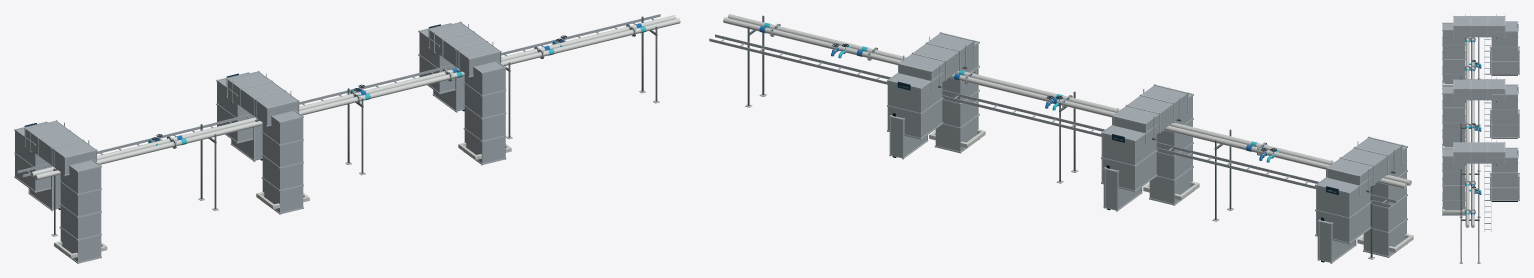
File: fab1-hvac-south.glb
3 renders of one model, left to right at view 1: azimuth 30°, elevation 25°; view 2: azimuth 150°, elevation 25°; view 3: azimuth 270°, elevation 25°, orthographic. The views are drawn at different scales.
Visible parts, largest first — view 1: FAB1_HVAC_south_Downfeed_2, FAB1_HVAC_south_Downfeed_0, FAB1_HVAC_south_Downfeed_1, FAB1_HVAC_south_CHWR, FAB1_HVAC_south_Overhead_1, FAB1_HVAC_south_Overhead_0, FAB1_HVAC_south_CHWS, FAB1_HVAC_south_Overhead_2, FAB1_HVAC_south_CableRail_8.0, FAB1_HVAC_south_Riser_0, FAB1_HVAC_south_Riser_2, FAB1_HVAC_south_Riser_1 (+3 smaller); view 2: FAB1_HVAC_south_CHWS, FAB1_HVAC_south_Riser_2, FAB1_HVAC_south_Riser_0, FAB1_HVAC_south_Riser_1, FAB1_HVAC_south_Downfeed_1, FAB1_HVAC_south_Downfeed_2, FAB1_HVAC_south_Downfeed_0, FAB1_HVAC_south_Overhead_1, FAB1_HVAC_south_Overhead_0, FAB1_HVAC_south_Overhead_2, FAB1_HVAC_south_CHWR, FAB1_HVAC_south_CableRail_8.0 (+4 smaller); view 3: FAB1_HVAC_south_Downfeed_2, FAB1_HVAC_south_Downfeed_0, FAB1_HVAC_south_Downfeed_1, FAB1_HVAC_south_Overhead_0, FAB1_HVAC_south_Overhead_2, FAB1_HVAC_south_Overhead_1, FAB1_HVAC_south_Riser_0, FAB1_HVAC_south_Riser_2, FAB1_HVAC_south_Riser_1, FAB1_HVAC_south_CHWR, FAB1_HVAC_south_CHWS, FAB1_HVAC_south_Outlet_1 (+10 smaller).
Part boxes in pixels (x1,y1,x2,y2): FAB1_HVAC_south_Downfeed_2: [463, 60, 506, 165]; FAB1_HVAC_south_Downfeed_0: [59, 159, 101, 263]; FAB1_HVAC_south_Downfeed_1: [261, 110, 303, 214]; FAB1_HVAC_south_CHWR: [34, 18, 680, 180]; FAB1_HVAC_south_Overhead_1: [226, 70, 299, 126]; FAB1_HVAC_south_Overhead_0: [24, 120, 97, 176]; FAB1_HVAC_south_CHWS: [30, 15, 676, 177]; FAB1_HVAC_south_Overhead_2: [428, 21, 501, 77]; FAB1_HVAC_south_CableRail_8.0: [17, 14, 660, 173]; FAB1_HVAC_south_Riser_0: [14, 121, 52, 192]; FAB1_HVAC_south_Riser_2: [418, 23, 455, 94]; FAB1_HVAC_south_Riser_1: [216, 72, 254, 143]; FAB1_HVAC_south_CHWS: [723, 17, 1407, 189]; FAB1_HVAC_south_Riser_2: [887, 72, 943, 139]; FAB1_HVAC_south_Riser_0: [1315, 177, 1371, 244]; FAB1_HVAC_south_Riser_1: [1101, 125, 1157, 191]; FAB1_HVAC_south_Downfeed_1: [1149, 87, 1193, 205]; FAB1_HVAC_south_Downfeed_2: [934, 40, 979, 153]; FAB1_HVAC_south_Downfeed_0: [1363, 140, 1407, 257]; FAB1_HVAC_south_Overhead_1: [1111, 84, 1189, 143]; FAB1_HVAC_south_Overhead_0: [1325, 136, 1403, 195]; FAB1_HVAC_south_Overhead_2: [897, 32, 974, 91]; FAB1_HVAC_south_CHWR: [727, 14, 1411, 185]; FAB1_HVAC_south_CableRail_8.0: [709, 38, 1390, 207]; FAB1_HVAC_south_Downfeed_2: [1442, 149, 1465, 215]; FAB1_HVAC_south_Downfeed_0: [1442, 22, 1465, 88]; FAB1_HVAC_south_Downfeed_1: [1442, 85, 1465, 151]; FAB1_HVAC_south_Overhead_0: [1453, 15, 1505, 37]; FAB1_HVAC_south_Overhead_2: [1453, 142, 1505, 164]; FAB1_HVAC_south_Overhead_1: [1453, 79, 1505, 100]; FAB1_HVAC_south_Riser_0: [1491, 21, 1518, 62]; FAB1_HVAC_south_Riser_2: [1491, 147, 1518, 188]; FAB1_HVAC_south_Riser_1: [1491, 84, 1518, 125]; FAB1_HVAC_south_CHWR: [1465, 38, 1469, 227]; FAB1_HVAC_south_CHWS: [1471, 38, 1474, 227]; FAB1_HVAC_south_Outlet_1: [1489, 109, 1519, 137].
Bounding box in the file's own units: 35 × 5.36 × 5.73.
Materials: 1 (1 with a texture image).
